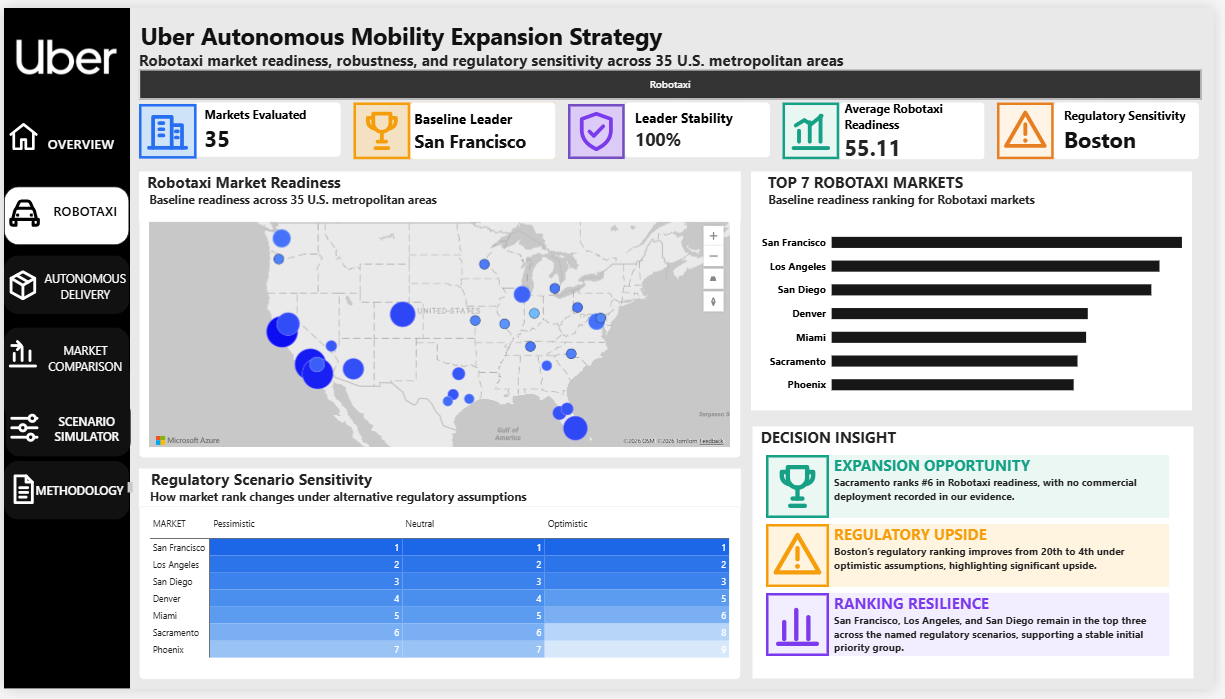

The dashboard page shown, as its layout file describes it:
{"tool":"powerbi","page":{"name":"Robotaxi","canvas":[1920,1080],"ordinal":1},"visuals":[{"type":"image","box":[895,152.5,90.1,87.5],"z":0,"group":"g12"},{"type":"shape","box":[0,162.5,198.7,100.8],"z":0},{"type":"textbox","box":[1185,260,700,83.8],"z":0,"group":"g15"},{"type":"shape","box":[0,283.4,198.7,92.8],"z":0,"group":"g6"},{"type":"shape","box":[0,394,198.7,92.8],"z":0,"group":"g5"},{"type":"shape","box":[0,507.4,198.7,92.8],"z":0,"group":"g7"},{"type":"shape","box":[2.8,618,198.7,92.8],"z":0,"group":"g8"},{"type":"textbox","box":[1187.5,665,700,400],"z":0,"group":"g17"},{"type":"image","box":[1210,710,100,100],"z":0,"group":"g1"},{"type":"shape","box":[0,720,198.7,92.8],"z":0,"group":"g9"},{"type":"image","box":[1210,820,100,100],"z":0,"group":"g2"},{"type":"image","box":[1210,930,100,100],"z":0,"group":"g3"},{"type":"shape","box":[0,0,200,1080],"z":1000},{"type":"cardVisual","fields":{"Data":["_Measures.Robust Leader Top 5 Frequency"]},"box":[984.6,150,230.4,87.5],"z":1000,"group":"g12"},{"type":"cardVisual","fields":{"Data":["_Measures.Average Robotaxi Readiness"]},"box":[1325,150,230,90],"z":1000,"group":"g13"},{"type":"clusteredBarChart","fields":{"Category":["PBI_DIM_MARKET.MARKET_SHORT_NAME"],"Y":["_Measures.Selected Baseline Score"]},"box":[1185,327.1,700,312.9],"z":1000,"group":"g15"},{"type":"shape","box":[0,556,200,100],"z":1000,"group":"g4"},{"type":"group","id":"g1","title":"Group 10","box":[1210,710,640,100],"z":1000,"group":"g17"},{"type":"textbox","box":[1310,710,540,100],"z":1000,"group":"g1"},{"type":"textbox","box":[215,730,955,65],"z":1000,"group":"g16"},{"type":"textbox","box":[1310,820,540,100],"z":1000,"group":"g2"},{"type":"textbox","box":[1310,930,540,100],"z":1000,"group":"g3"},{"type":"textbox","box":[216,0,1704,96],"z":2000},{"type":"group","id":"g2","title":"Group 11","box":[1210,820,640,100],"z":2000,"group":"g17"},{"type":"textbox","box":[215,47.5,1500,72.5],"z":3000},{"type":"image","box":[0,289.1,60,70],"z":3000,"group":"g6"},{"type":"group","id":"g3","title":"Group 12","box":[1210,930,640,100],"z":3000,"group":"g17"},{"type":"actionButton","box":[528.9,447.9,200,100],"z":4000},{"type":"slicer","fields":{"Values":["PBI_DIM_MODE.MODE_NAME"]},"box":[192.9,95.3,1727.1,52.2],"z":5000},{"type":"cardVisual","fields":{"Data":["_Measures.Markets Evaluated"]},"box":[302.3,150,232.7,86.5],"z":5000,"group":"g18"},{"type":"image","box":[0,0,200,165.6],"z":6000},{"type":"cardVisual","fields":{"Data":["_Measures.Most Regulation-Sensitive Market"]},"box":[1666.2,150,230,90],"z":6000,"group":"g14"},{"type":"cardVisual","fields":{"Data":["_Measures.Robust Leader"]},"box":[645,150,230,90],"z":7000,"group":"g19"},{"type":"actionButton","box":[0,162.5,200,100],"z":7000},{"type":"group","id":"g4","title":"Group 2","box":[0,556,200,100],"z":8000},{"type":"group","id":"g5","title":"Group 3","box":[0,394,198.4,93.5],"z":9000},{"type":"azureMap","fields":{"Size":["_Measures.Top 5 Frequency"],"X":["PBI_DIM_MARKET.LONGITUDE"],"Y":["PBI_DIM_MARKET.LATITUDE"]},"box":[215,320,955,395],"z":10000},{"type":"group","id":"g6","title":"Group 4","box":[0,283.4,198.7,92.8],"z":11000},{"type":"textbox","box":[215,260,955,80],"z":12000},{"type":"group","id":"g7","title":"Group 5","box":[0,507.4,198.4,93.5],"z":13000},{"type":"group","id":"g8","title":"Group 6","box":[2.8,618,198.7,92.8],"z":14000},{"type":"group","id":"g9","title":"Group 7","box":[0,720,204.1,93.5],"z":15000},{"type":"actionButton","box":[0,395.4,198.4,93.5],"z":16000},{"type":"actionButton","box":[0,394,198.4,93.5],"z":17000},{"type":"actionButton","box":[0,515.9,198.4,102],"z":18000},{"type":"actionButton","box":[0,615,199.7,95.3],"z":19000},{"type":"textbox","box":[57.5,200,130.4,37.8],"z":20000},{"type":"textbox","box":[59.5,306.1,138.9,39.7],"z":20000,"group":"g6"},{"type":"textbox","box":[59.5,416.7,138.9,51],"z":20000,"group":"g5"},{"type":"textbox","box":[59.5,530.1,138.9,51],"z":20000,"group":"g7"},{"type":"textbox","box":[62.3,640.7,138.9,51],"z":20000,"group":"g8"},{"type":"textbox","box":[41.9,754,161.6,19.8],"z":20000,"group":"g9"},{"type":"image","box":[0,405.3,60,70],"z":21000,"group":"g5"},{"type":"actionButton","box":[0,717.2,197.4,90.8],"z":21000},{"type":"image","box":[0,515.9,60,70],"z":21005,"group":"g7"},{"type":"group","id":"g10","title":"Group 15","box":[215,150,320,90],"z":22000},{"type":"group","id":"g11","title":"Group 17","box":[555,150,320,90],"z":23000},{"type":"image","box":[4,629.5,60,70],"z":23001,"group":"g8"},{"type":"image","box":[0,728.5,60,70],"z":23001,"group":"g9"},{"type":"group","id":"g12","title":"Group 18","box":[895,150,320,90],"z":24000},{"type":"image","box":[2.5,165,57.5,80],"z":25000},{"type":"image","box":[0,285,65,75],"z":26000},{"type":"group","id":"g13","title":"Group 1","box":[1235,150,320,90],"z":27000},{"type":"group","id":"g14","title":"Group 16","box":[1575,150,321.2,90],"z":28000},{"type":"group","id":"g15","title":"Group 8","box":[1185,260,700,380],"z":30000},{"type":"group","id":"g16","title":"Group 9","box":[215,730,955,335],"z":31000},{"type":"image","box":[215,153.5,91.1,86.5],"z":31002,"group":"g18"},{"type":"image","box":[555,150,90,90],"z":31004,"group":"g19"},{"type":"group","id":"g17","title":"Group 13","box":[1187.5,665,700,400],"z":31011},{"type":"group","id":"g18","title":"Group 21","box":[215,150,320,90],"z":31015,"group":"g10"},{"type":"group","id":"g19","title":"Group 20","box":[555,150,320,90],"z":31015,"group":"g11"},{"type":"image","box":[1235,150,90,90],"z":37002,"group":"g13"},{"type":"image","box":[1575,150,90,90],"z":37004,"group":"g14"},{"type":"pivotTable","fields":{"Columns":["PBI_DIM_REGULATORY_SCENARIO.REGULATORY_SCENARIO_NAME"],"Rows":["PBI_DIM_MARKET.MARKET_SHORT_NAME"],"Values":["Min(PBI_FCT_REGULATORY_UNCERTAINTY.SCENARIO_RANK)"]},"box":[215,790,955,275],"z":37009,"group":"g16"}]}

Visuals, with their boxes on the page's 1920x1080 design canvas (x1, y1, x2, y2). These are canvas units, not pixel positions in the 1225x699 screenshot, which may show the page scaled, cropped or inside an application window:
image: x1=895 y1=152 x2=985 y2=240
shape: x1=0 y1=162 x2=199 y2=263
textbox: x1=1185 y1=260 x2=1885 y2=344
shape: x1=0 y1=283 x2=199 y2=376
shape: x1=0 y1=394 x2=199 y2=487
shape: x1=0 y1=507 x2=199 y2=600
shape: x1=3 y1=618 x2=202 y2=711
textbox: x1=1188 y1=665 x2=1888 y2=1065
image: x1=1210 y1=710 x2=1310 y2=810
shape: x1=0 y1=720 x2=199 y2=813
image: x1=1210 y1=820 x2=1310 y2=920
image: x1=1210 y1=930 x2=1310 y2=1030
shape: x1=0 y1=0 x2=200 y2=1080
cardVisual - _Measures.Robust Leader Top 5 Frequency: x1=985 y1=150 x2=1215 y2=238
cardVisual - _Measures.Average Robotaxi Readiness: x1=1325 y1=150 x2=1555 y2=240
clusteredBarChart - PBI_DIM_MARKET.MARKET_SHORT_NAME x _Measures.Selected Baseline Score: x1=1185 y1=327 x2=1885 y2=640
shape: x1=0 y1=556 x2=200 y2=656
"Group 10" group: x1=1210 y1=710 x2=1850 y2=810
textbox: x1=1310 y1=710 x2=1850 y2=810
textbox: x1=215 y1=730 x2=1170 y2=795
textbox: x1=1310 y1=820 x2=1850 y2=920
textbox: x1=1310 y1=930 x2=1850 y2=1030
textbox: x1=216 y1=0 x2=1920 y2=96
"Group 11" group: x1=1210 y1=820 x2=1850 y2=920
textbox: x1=215 y1=48 x2=1715 y2=120
image: x1=0 y1=289 x2=60 y2=359
"Group 12" group: x1=1210 y1=930 x2=1850 y2=1030
actionButton: x1=529 y1=448 x2=729 y2=548
slicer - PBI_DIM_MODE.MODE_NAME: x1=193 y1=95 x2=1920 y2=148
cardVisual - _Measures.Markets Evaluated: x1=302 y1=150 x2=535 y2=236
image: x1=0 y1=0 x2=200 y2=166
cardVisual - _Measures.Most Regulation-Sensitive Market: x1=1666 y1=150 x2=1896 y2=240
cardVisual - _Measures.Robust Leader: x1=645 y1=150 x2=875 y2=240
actionButton: x1=0 y1=162 x2=200 y2=262
"Group 2" group: x1=0 y1=556 x2=200 y2=656
"Group 3" group: x1=0 y1=394 x2=198 y2=488
azureMap - _Measures.Top 5 Frequency x PBI_DIM_MARKET.LONGITUDE: x1=215 y1=320 x2=1170 y2=715
"Group 4" group: x1=0 y1=283 x2=199 y2=376
textbox: x1=215 y1=260 x2=1170 y2=340
"Group 5" group: x1=0 y1=507 x2=198 y2=601
"Group 6" group: x1=3 y1=618 x2=202 y2=711
"Group 7" group: x1=0 y1=720 x2=204 y2=814
actionButton: x1=0 y1=395 x2=198 y2=489
actionButton: x1=0 y1=394 x2=198 y2=488
actionButton: x1=0 y1=516 x2=198 y2=618
actionButton: x1=0 y1=615 x2=200 y2=710
textbox: x1=58 y1=200 x2=188 y2=238
textbox: x1=60 y1=306 x2=198 y2=346
textbox: x1=60 y1=417 x2=198 y2=468
textbox: x1=60 y1=530 x2=198 y2=581
textbox: x1=62 y1=641 x2=201 y2=692
textbox: x1=42 y1=754 x2=204 y2=774
image: x1=0 y1=405 x2=60 y2=475
actionButton: x1=0 y1=717 x2=197 y2=808
image: x1=0 y1=516 x2=60 y2=586
"Group 15" group: x1=215 y1=150 x2=535 y2=240
"Group 17" group: x1=555 y1=150 x2=875 y2=240
image: x1=4 y1=630 x2=64 y2=700
image: x1=0 y1=728 x2=60 y2=798
"Group 18" group: x1=895 y1=150 x2=1215 y2=240
image: x1=2 y1=165 x2=60 y2=245
image: x1=0 y1=285 x2=65 y2=360
"Group 1" group: x1=1235 y1=150 x2=1555 y2=240
"Group 16" group: x1=1575 y1=150 x2=1896 y2=240
"Group 8" group: x1=1185 y1=260 x2=1885 y2=640
"Group 9" group: x1=215 y1=730 x2=1170 y2=1065
image: x1=215 y1=154 x2=306 y2=240
image: x1=555 y1=150 x2=645 y2=240
"Group 13" group: x1=1188 y1=665 x2=1888 y2=1065
"Group 21" group: x1=215 y1=150 x2=535 y2=240
"Group 20" group: x1=555 y1=150 x2=875 y2=240
image: x1=1235 y1=150 x2=1325 y2=240
image: x1=1575 y1=150 x2=1665 y2=240
pivotTable - PBI_DIM_REGULATORY_SCENARIO.REGULATORY_SCENARIO_NAME x PBI_DIM_MARKET.MARKET_SHORT_NAME: x1=215 y1=790 x2=1170 y2=1065
